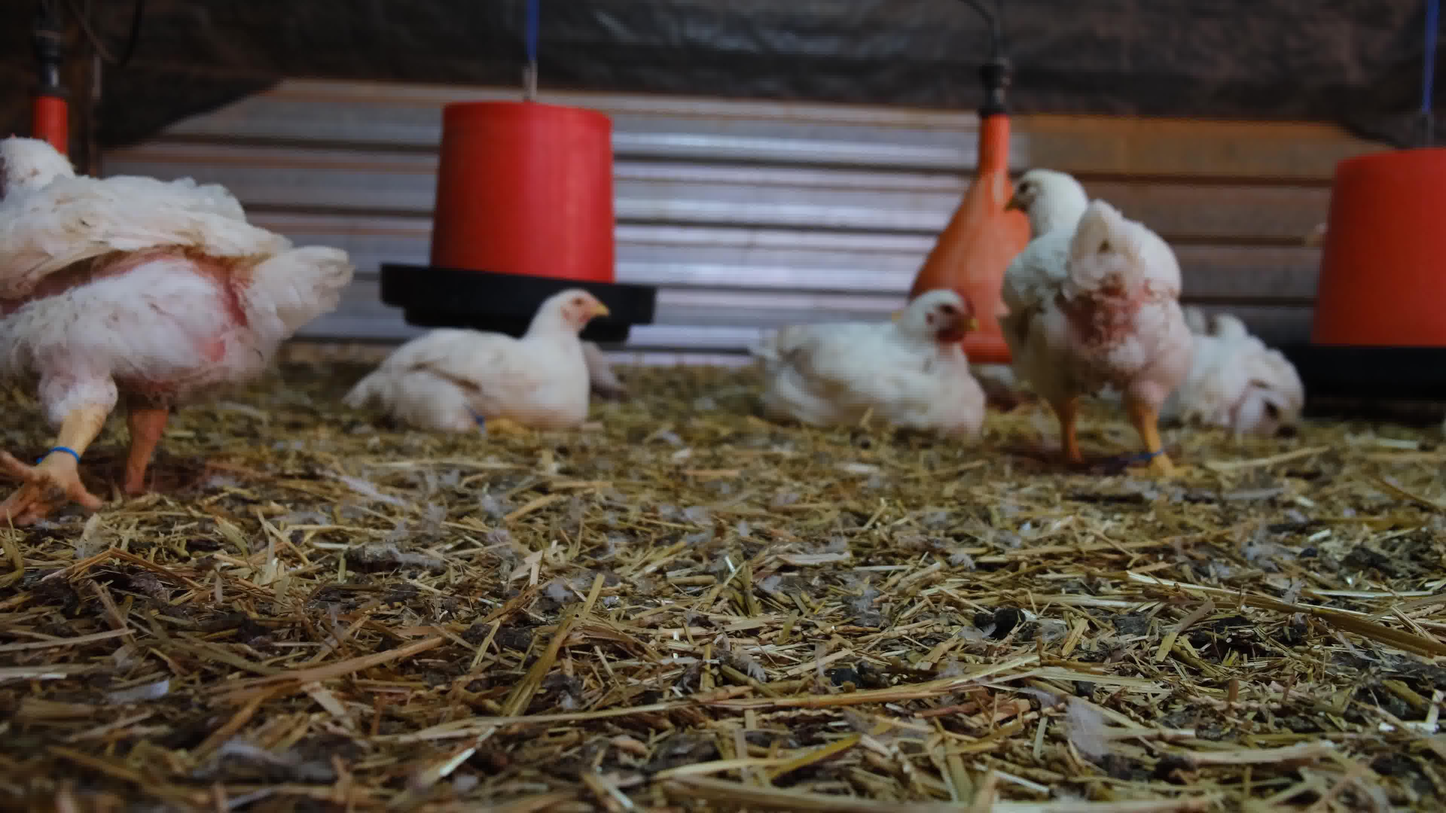AbNormal: (338, 288, 614, 429), (754, 285, 991, 437), (1158, 309, 1307, 431)
Normal: (0, 134, 350, 538), (998, 170, 1180, 485)
